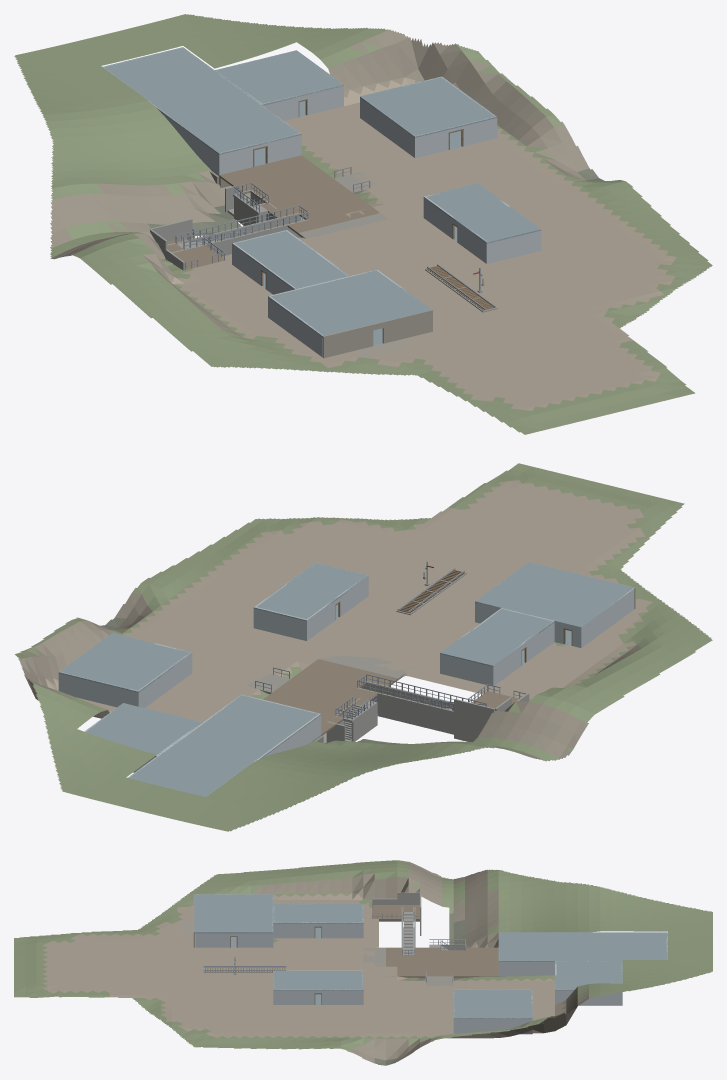
The model's file is railway.glb.
3 views of the same model, one above another, from view 1: azimuth 30°, elevation 25°; view 2: azimuth 150°, elevation 25°; view 3: azimuth 270°, elevation 25° (orthographic). The views are drawn at different scales.
Visible parts, largest first — view 1: WLD-12 saved ground, Ceiling cap tunnel, WLD-12 trestle deck with rectangular access region0, Ceiling cap signal, Ceiling cap store, Ceiling cap refuge, Ceiling cap coach-b, Ceiling cap coach-a, WLD-12 clean signal W end, WLD-12 clean coach-b S end, WLD-12 clean store W end, Gallows Pass Railway signal exterior facade signal s exterio (+12 smaller); view 2: WLD-12 saved ground, Ceiling cap tunnel, Ceiling cap signal, WLD-12 trestle deck with rectangular access region0, Ceiling cap store, Ceiling cap refuge, Ceiling cap coach-b, Ceiling cap coach-a, WLD-12 west stair retaining wall 36.75 region0, WLD-12 clean store N end, WLD-12 platform north retaining parapet region0, WLD-12 clean coach-b N end (+10 smaller); view 3: WLD-12 saved ground, Ceiling cap tunnel, Ceiling cap signal, WLD-12 trestle deck with rectangular access region0, Ceiling cap store, Ceiling cap coach-a, Ceiling cap coach-b, Ceiling cap refuge, WLD-12 clean store E end, WLD-12 clean tunnel E end, WLD-12 clean coach-a E end, WLD-12 clean coach-b E end (+6 smaller).
Part boxes in pixels (bbox=[...]): WLD-12 saved ground: bbox=[14, 14, 712, 434]; Ceiling cap tunnel: bbox=[102, 47, 301, 154]; WLD-12 trestle deck with rectangular access region0: bbox=[219, 155, 379, 234]; Ceiling cap signal: bbox=[268, 269, 432, 336]; Ceiling cap store: bbox=[360, 76, 497, 137]; Ceiling cap refuge: bbox=[215, 50, 343, 105]; Ceiling cap coach-b: bbox=[423, 183, 541, 243]; Ceiling cap coach-a: bbox=[232, 230, 349, 289]; WLD-12 clean signal W end: bbox=[269, 296, 322, 357]; WLD-12 clean coach-b S end: bbox=[485, 230, 541, 263]; WLD-12 clean store W end: bbox=[360, 97, 415, 157]; Gallows Pass Railway signal exterior facade signal s exterio: bbox=[322, 325, 371, 358]; WLD-12 saved ground: bbox=[14, 463, 712, 831]; Ceiling cap tunnel: bbox=[129, 694, 320, 796]; Ceiling cap signal: bbox=[475, 562, 635, 627]; WLD-12 trestle deck with rectangular access region0: bbox=[263, 659, 397, 735]; Ceiling cap store: bbox=[59, 633, 192, 692]; Ceiling cap refuge: bbox=[86, 703, 202, 756]; Ceiling cap coach-b: bbox=[253, 562, 368, 620]; Ceiling cap coach-a: bbox=[440, 608, 554, 666]; WLD-12 west stair retaining wall 36.75 region0: bbox=[357, 687, 453, 734]; WLD-12 clean store N end: bbox=[58, 671, 139, 707]; WLD-12 platform north retaining parapet region0: bbox=[454, 699, 494, 741]; WLD-12 clean coach-b N end: bbox=[253, 607, 307, 640]; WLD-12 saved ground: bbox=[14, 860, 712, 1065]; Ceiling cap tunnel: bbox=[498, 932, 667, 961]; Ceiling cap signal: bbox=[194, 894, 273, 933]; WLD-12 trestle deck with rectangular access region0: bbox=[386, 947, 498, 977]; Ceiling cap store: bbox=[453, 989, 532, 1018]; Ceiling cap coach-a: bbox=[273, 903, 363, 923]; Ceiling cap coach-b: bbox=[273, 970, 363, 990]; Ceiling cap refuge: bbox=[555, 961, 622, 990]; WLD-12 clean store E end: bbox=[455, 1018, 531, 1033]; WLD-12 clean tunnel E end: bbox=[500, 960, 554, 976]; WLD-12 clean coach-a E end: bbox=[274, 922, 314, 938]; WLD-12 clean coach-b E end: bbox=[274, 989, 314, 1004].
Size of the model in its own units: 75 by 10.08 by 124.
Materials: 105 (89 with a texture image).
